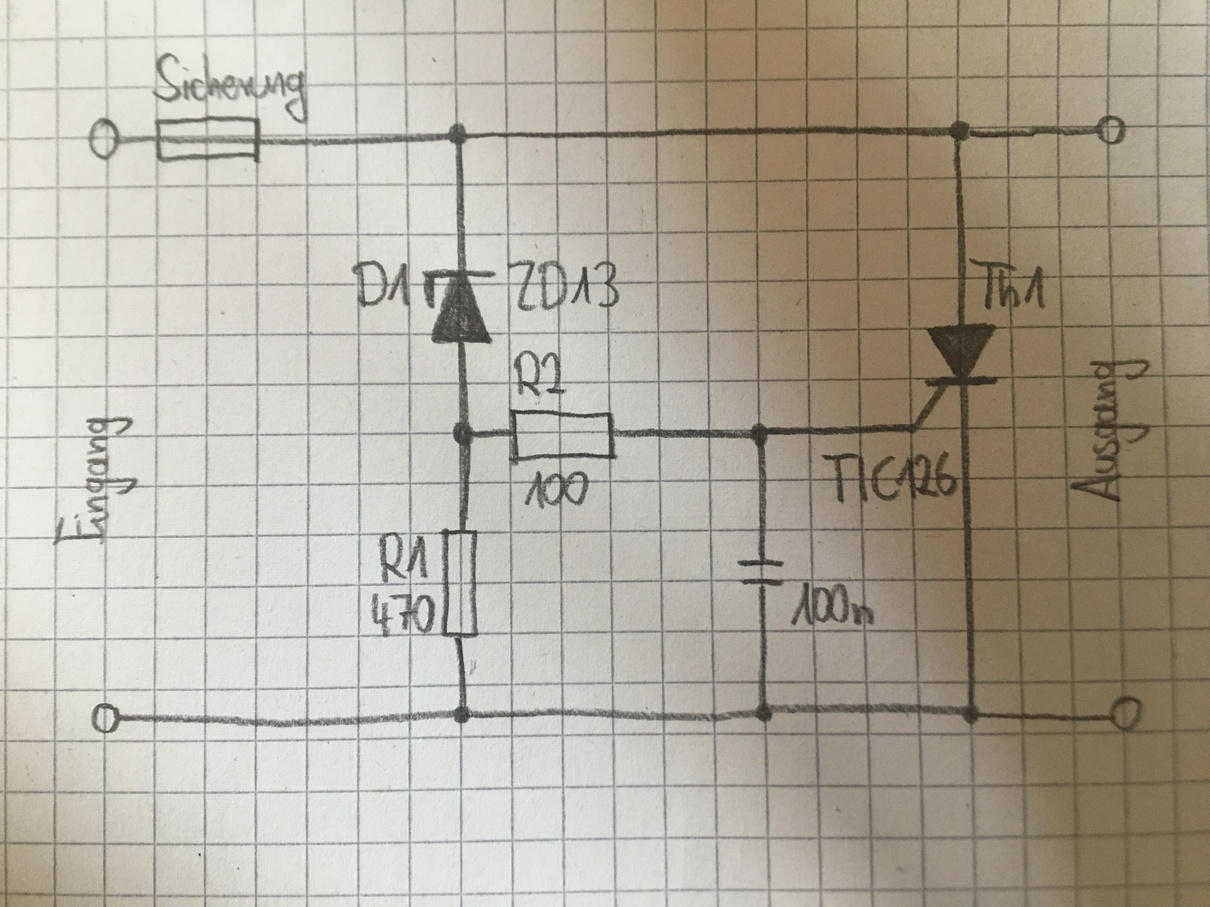capacitor.unpolarized: (735, 552, 792, 591)
diode: (419, 266, 500, 347)
fuse: (147, 108, 264, 167)
junction: (450, 419, 479, 448), (747, 420, 774, 449), (947, 118, 974, 146), (446, 119, 470, 149), (959, 701, 984, 727), (451, 702, 476, 726), (751, 700, 775, 724)
resistor: (504, 405, 621, 467), (436, 524, 485, 642)
terminal: (83, 113, 127, 165), (1106, 690, 1148, 738), (1092, 109, 1134, 150), (86, 698, 126, 737)
text: (1068, 355, 1155, 507), (148, 50, 314, 128), (50, 413, 142, 549), (819, 449, 959, 507), (505, 254, 623, 314), (787, 579, 879, 631), (967, 256, 1049, 313), (349, 256, 414, 311), (369, 589, 438, 640), (375, 529, 432, 585), (511, 346, 571, 399), (522, 468, 592, 512)
thyristor: (910, 321, 1000, 436)
